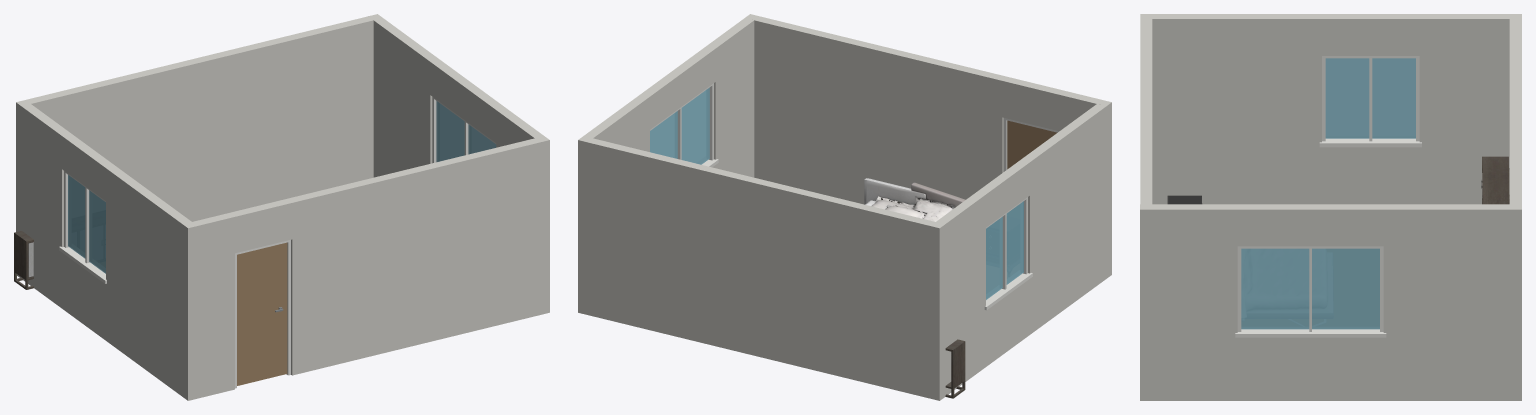
Rendered from atiss.glb.
3 views of the same model, side by side, from view 1: azimuth 30°, elevation 25°; view 2: azimuth 150°, elevation 25°; view 3: azimuth 270°, elevation 25° (orthographic). The views are drawn at different scales.
Parts seen in each view (by area): view 1: wall|scenesmith_022__R00|0, wall|scenesmith_022__R00|1, wall|scenesmith_022__R00|2, wall|scenesmith_022__R00|3, wall|scenesmith_022__R00|0 Door 0 | wood leaf, wall|scenesmith_022__R00|2 Window 0 | glazing, wall|scenesmith_022__R00|3 Window 0 | glazing, wall|scenesmith_022__R00|2 Window 0 | jamb, raw_model.001, wall|scenesmith_022__R00|0 Door 0 | jamb, wall|scenesmith_022__R00|3 Window 0 | jamb; view 2: wall|scenesmith_022__R00|1, wall|scenesmith_022__R00|0, wall|scenesmith_022__R00|2, wall|scenesmith_022__R00|3, wall|scenesmith_022__R00|3 Window 0 | glazing, raw_model.002, wall|scenesmith_022__R00|2 Window 0 | glazing, wall|scenesmith_022__R00|0 Door 0 | wood leaf, wall|scenesmith_022__R00|2 Window 0 | jamb, raw_model.001, wall|scenesmith_022__R00|3 Window 0 | jamb; view 3: wall|scenesmith_022__R00|2, wall|scenesmith_022__R00|3, wall|scenesmith_022__R00|3 Window 0 | glazing, wall|scenesmith_022__R00|2 Window 0 | glazing, wall|scenesmith_022__R00|0, wall|scenesmith_022__R00|1, wall|scenesmith_022__R00|3 Window 0 | jamb, wall|scenesmith_022__R00|2 Window 0 | jamb, raw_model.001, raw_model.
Part boxes in pixels (x1=…): wall|scenesmith_022__R00|0: x1=182, y1=136, x2=549, y2=400; wall|scenesmith_022__R00|1: x1=16, y1=16, x2=373, y2=277; wall|scenesmith_022__R00|2: x1=21, y1=104, x2=191, y2=396; wall|scenesmith_022__R00|3: x1=368, y1=14, x2=549, y2=314; wall|scenesmith_022__R00|0 Door 0 | wood leaf: x1=237, y1=242, x2=287, y2=385; wall|scenesmith_022__R00|2 Window 0 | glazing: x1=68, y1=175, x2=105, y2=273; wall|scenesmith_022__R00|3 Window 0 | glazing: x1=436, y1=101, x2=496, y2=162; wall|scenesmith_022__R00|2 Window 0 | jamb: x1=59, y1=171, x2=106, y2=283; raw_model.001: x1=14, y1=231, x2=33, y2=289; wall|scenesmith_022__R00|0 Door 0 | jamb: x1=235, y1=240, x2=290, y2=388; wall|scenesmith_022__R00|3 Window 0 | jamb: x1=432, y1=97, x2=496, y2=163; wall|scenesmith_022__R00|1: x1=578, y1=138, x2=945, y2=400; wall|scenesmith_022__R00|0: x1=745, y1=14, x2=1111, y2=278; wall|scenesmith_022__R00|2: x1=931, y1=104, x2=1106, y2=396; wall|scenesmith_022__R00|3: x1=578, y1=18, x2=754, y2=177; wall|scenesmith_022__R00|3 Window 0 | glazing: x1=650, y1=87, x2=709, y2=164; raw_model.002: x1=864, y1=178, x2=965, y2=221; wall|scenesmith_022__R00|2 Window 0 | glazing: x1=986, y1=201, x2=1023, y2=299; wall|scenesmith_022__R00|0 Door 0 | wood leaf: x1=1007, y1=120, x2=1057, y2=169; wall|scenesmith_022__R00|2 Window 0 | jamb: x1=984, y1=197, x2=1032, y2=310; raw_model.001: x1=945, y1=339, x2=965, y2=398; wall|scenesmith_022__R00|3 Window 0 | jamb: x1=650, y1=83, x2=718, y2=167; wall|scenesmith_022__R00|2: x1=1152, y1=14, x2=1521, y2=204; wall|scenesmith_022__R00|3: x1=1140, y1=204, x2=1521, y2=400; wall|scenesmith_022__R00|3 Window 0 | glazing: x1=1241, y1=248, x2=1379, y2=329; wall|scenesmith_022__R00|2 Window 0 | glazing: x1=1325, y1=58, x2=1415, y2=138; wall|scenesmith_022__R00|0: x1=1140, y1=14, x2=1152, y2=400; wall|scenesmith_022__R00|1: x1=1509, y1=14, x2=1521, y2=400; wall|scenesmith_022__R00|3 Window 0 | jamb: x1=1235, y1=246, x2=1386, y2=337; wall|scenesmith_022__R00|2 Window 0 | jamb: x1=1319, y1=56, x2=1421, y2=147; raw_model.001: x1=1481, y1=156, x2=1509, y2=204; raw_model: x1=1167, y1=195, x2=1202, y2=204.
Size of the model in its own units: 5.85 by 2.61 by 4.7.
9 materials, 3 textured.
